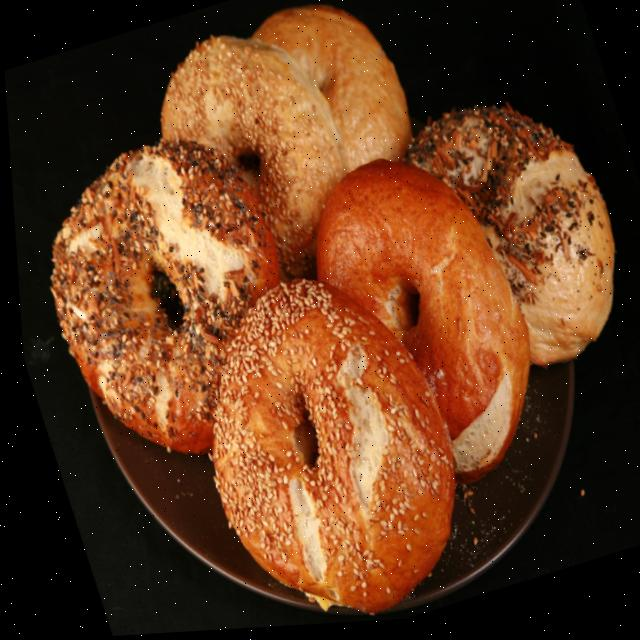Bagel: (205, 282, 448, 617), (47, 143, 275, 455), (312, 163, 525, 489), (403, 110, 611, 372), (159, 38, 344, 283), (253, 8, 409, 175)
